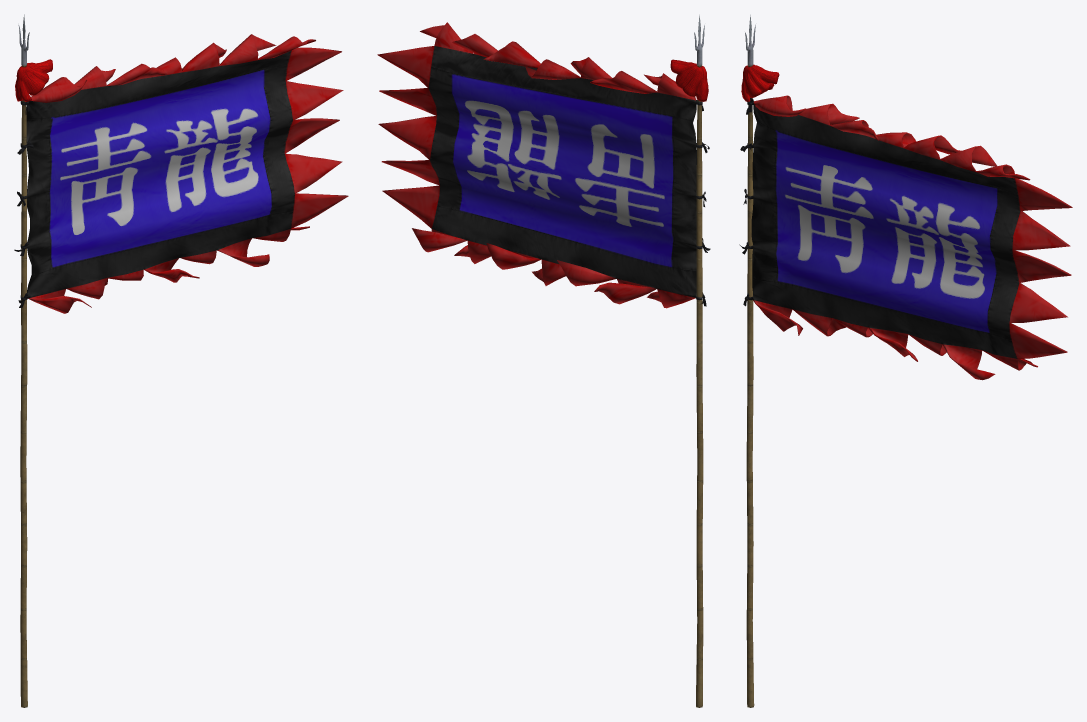
Rendered from SM_CheonglyonggiFlag.fbx.
3 views of the same model, side by side, from view 1: azimuth 30°, elevation 25°; view 2: azimuth 150°, elevation 25°; view 3: azimuth 330°, elevation 25° (orthographic).
Parts seen in each view (by area): view 1: SM_CheonglyonggiFlag_LOD0; view 2: SM_CheonglyonggiFlag_LOD0; view 3: SM_CheonglyonggiFlag_LOD0.
Part boxes in pixels (box(x1,y1,x2,y2)): SM_CheonglyonggiFlag_LOD0: box(14, 14, 348, 707); SM_CheonglyonggiFlag_LOD0: box(377, 15, 710, 707); SM_CheonglyonggiFlag_LOD0: box(739, 14, 1072, 707).
Size of the model in its own units: 282 by 564 by 39.64.
1 material, 1 textured.
